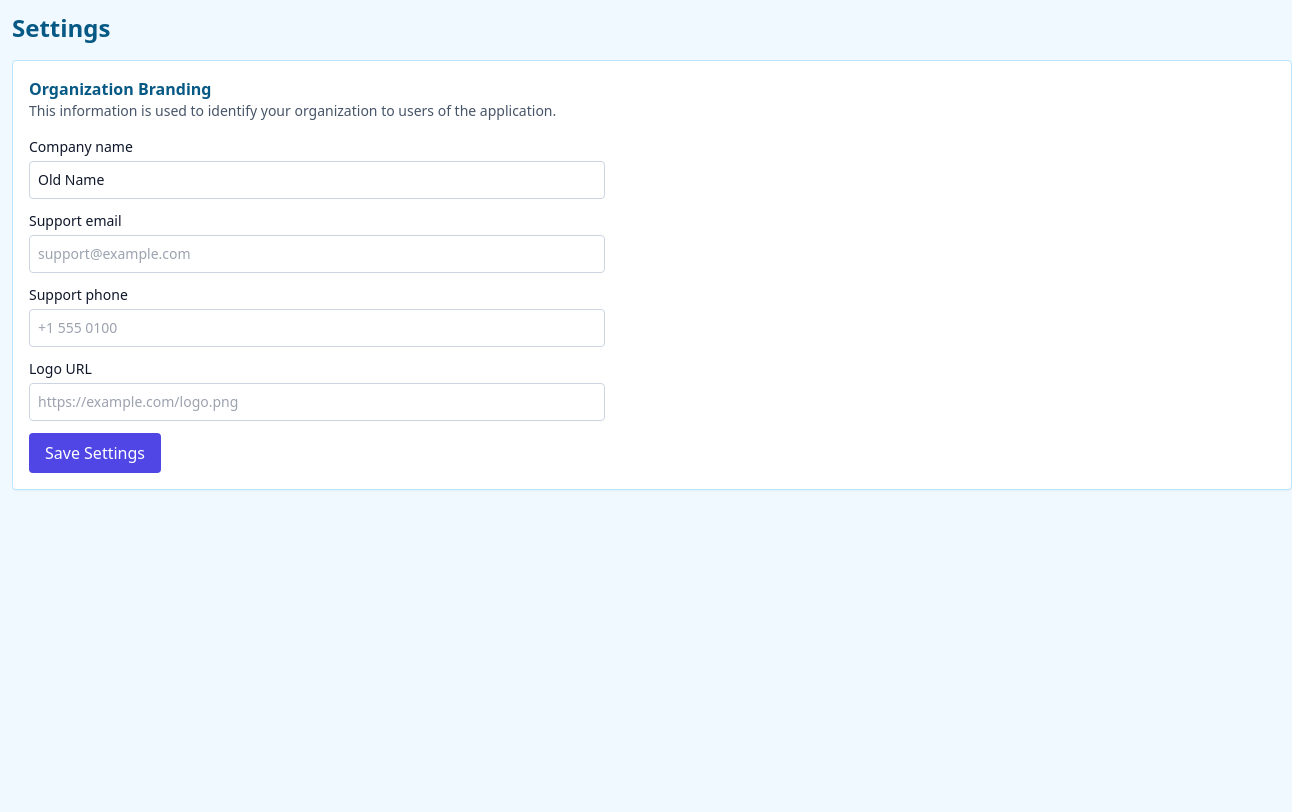
SettingsPage organization branding › saves updated organization settings
Replace the text in the field showing "Old Name" with "New Name": (317, 180) [29, 161, 605, 199]
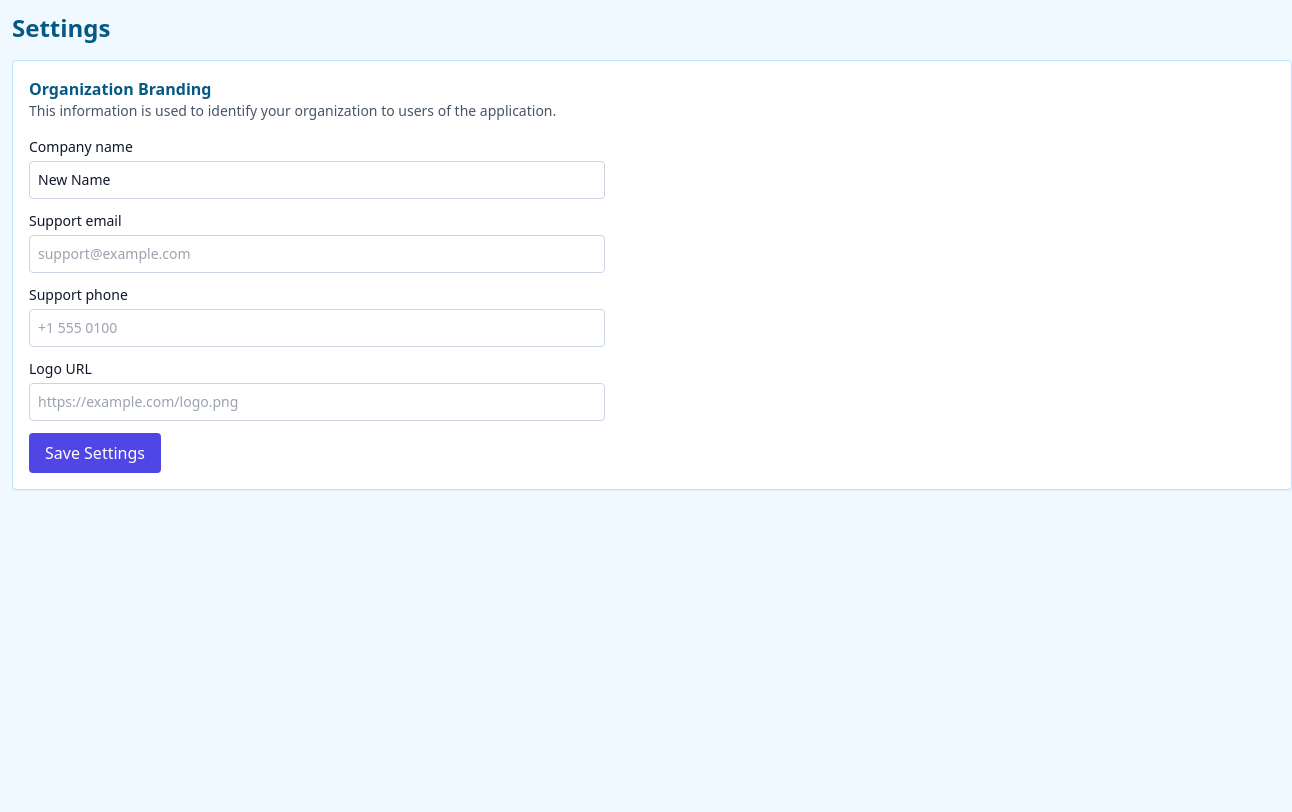
Click the button "Save Settings": (95, 453) [29, 433, 161, 473]
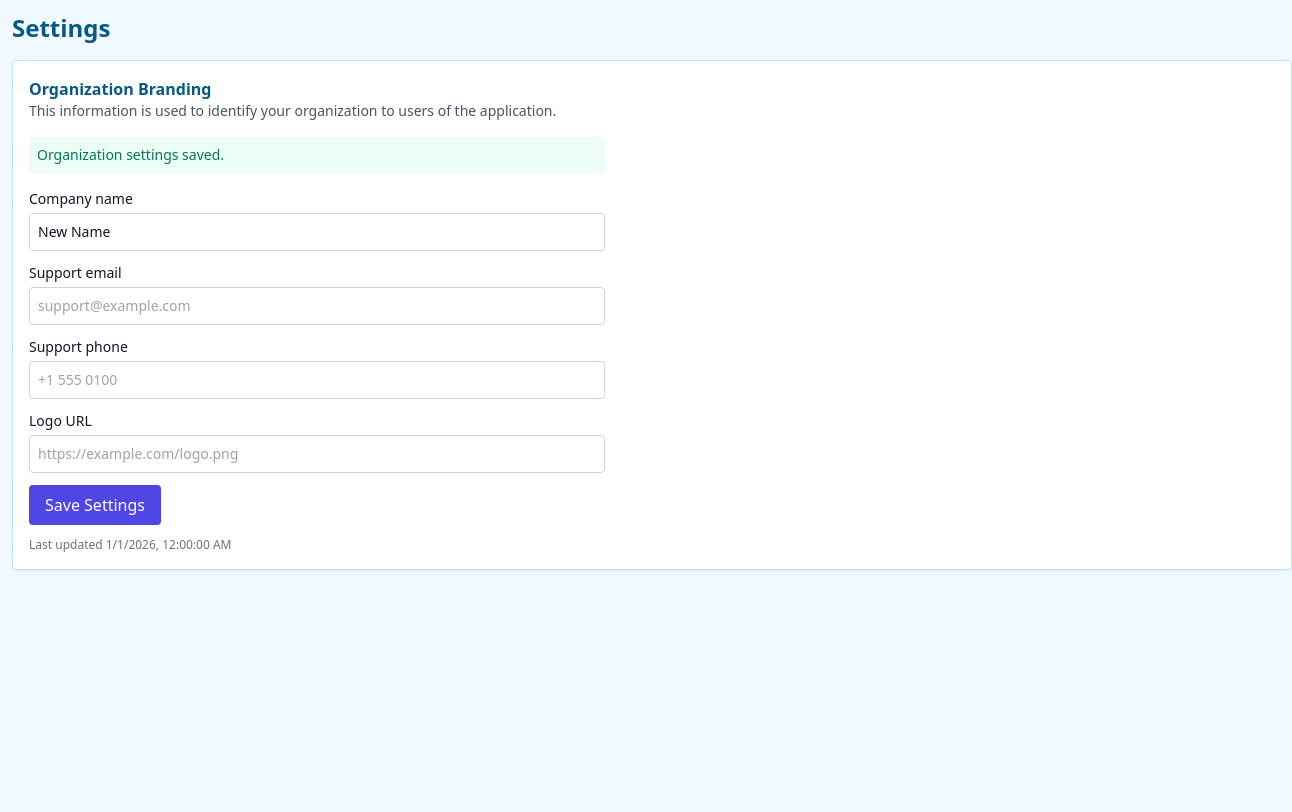
Check: the text "Organization settings saved." is shown, box [29, 137, 605, 173]
